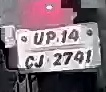1: (85, 49, 93, 65), (60, 30, 68, 45)
2: (52, 54, 64, 69)
4: (74, 50, 85, 67), (69, 28, 79, 44)
7: (63, 51, 73, 68)
C: (22, 53, 34, 69)
J: (34, 54, 46, 70)
P: (45, 30, 55, 46)
U: (32, 32, 44, 45)
